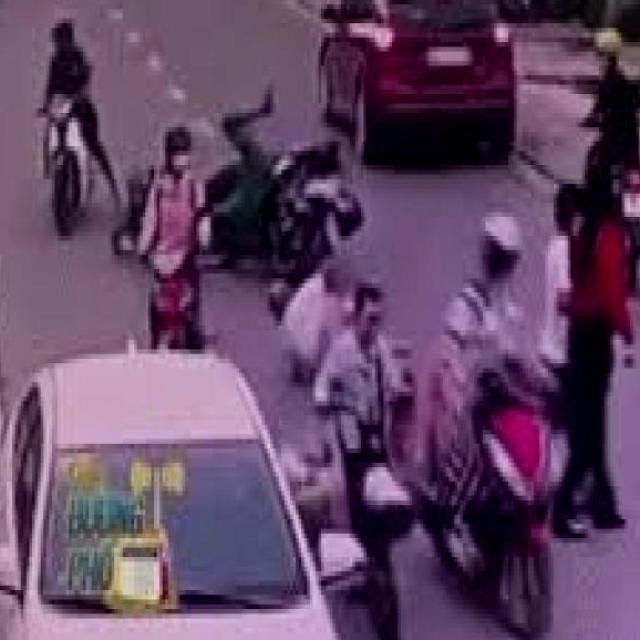accident: (140, 93, 364, 275)
